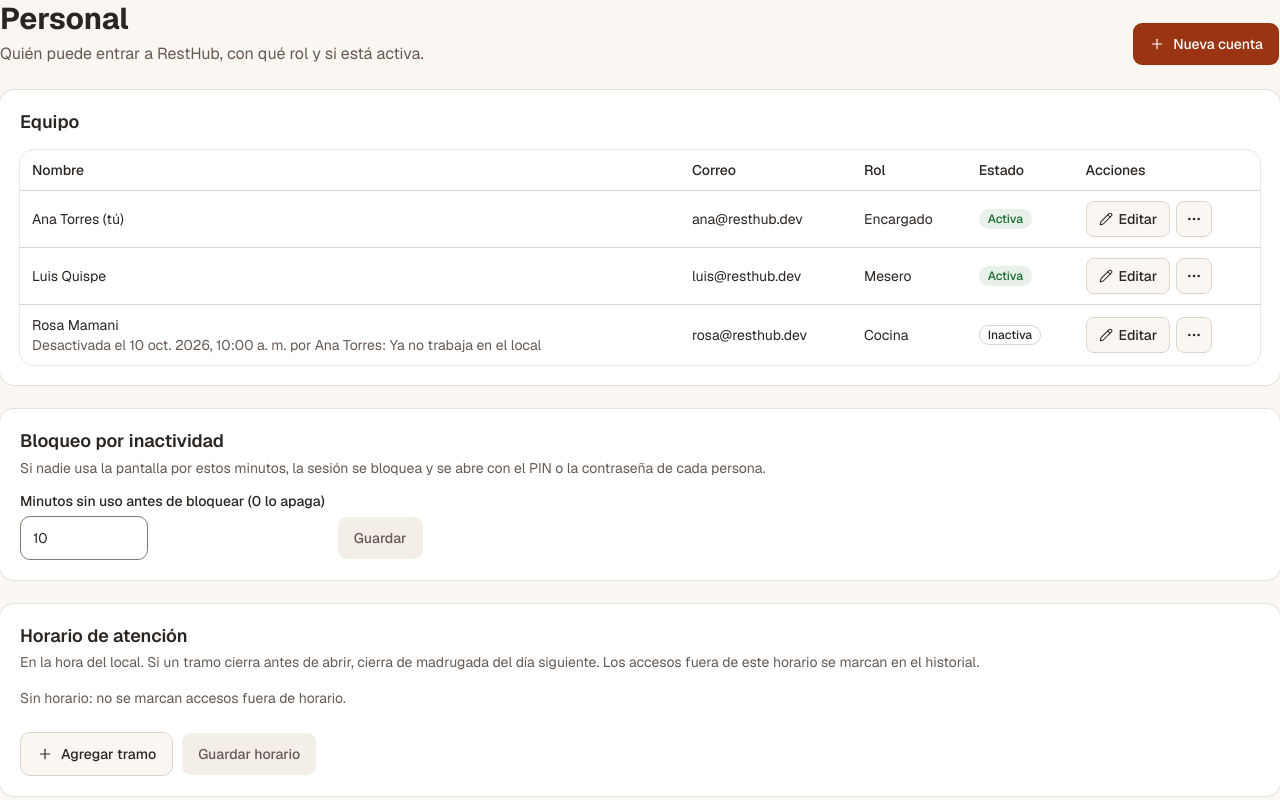
Test: Personal: bajas y accesos › muestra los accesos de una persona con sus marcas (RFS-15)
Click the button named "Más acciones de Luis Quispe": (1194, 276) [1176,258,1212,294]
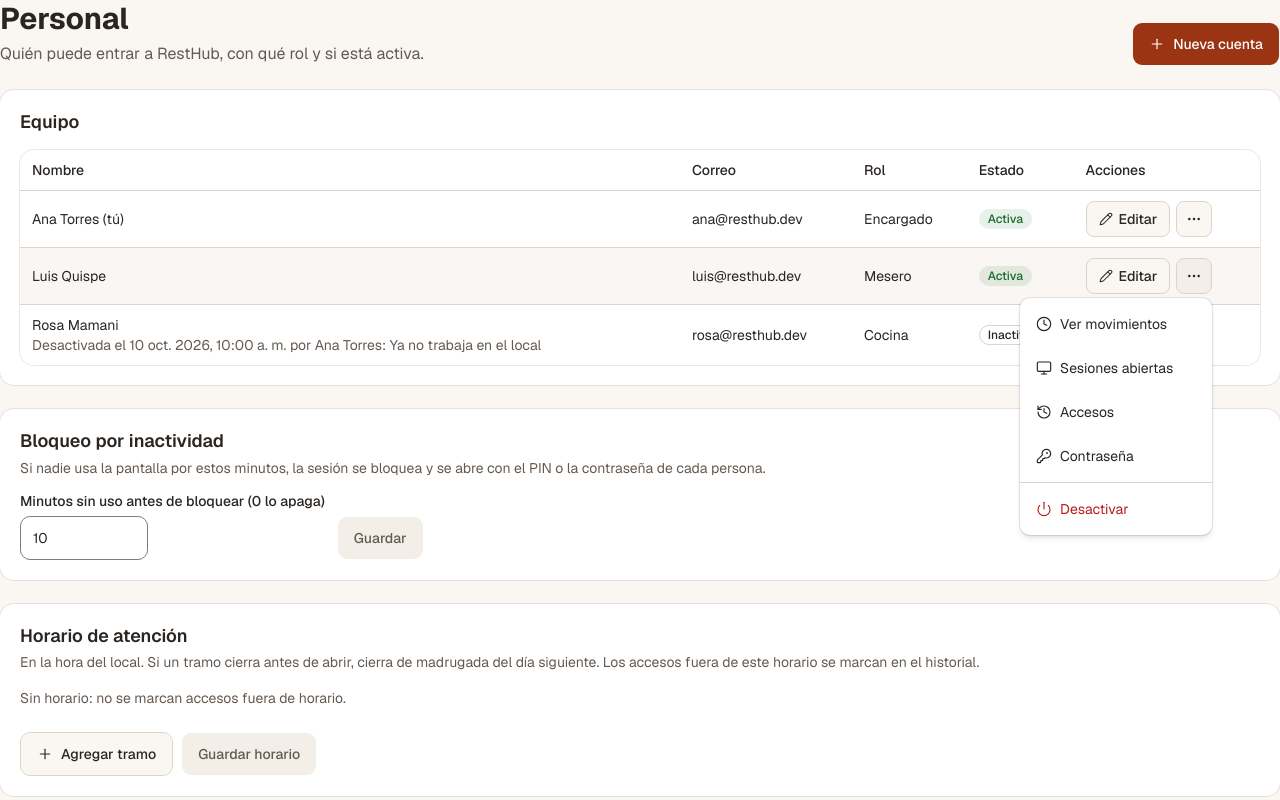
Click the menu item "Accesos": (1075, 412) [1036,403,1114,421]
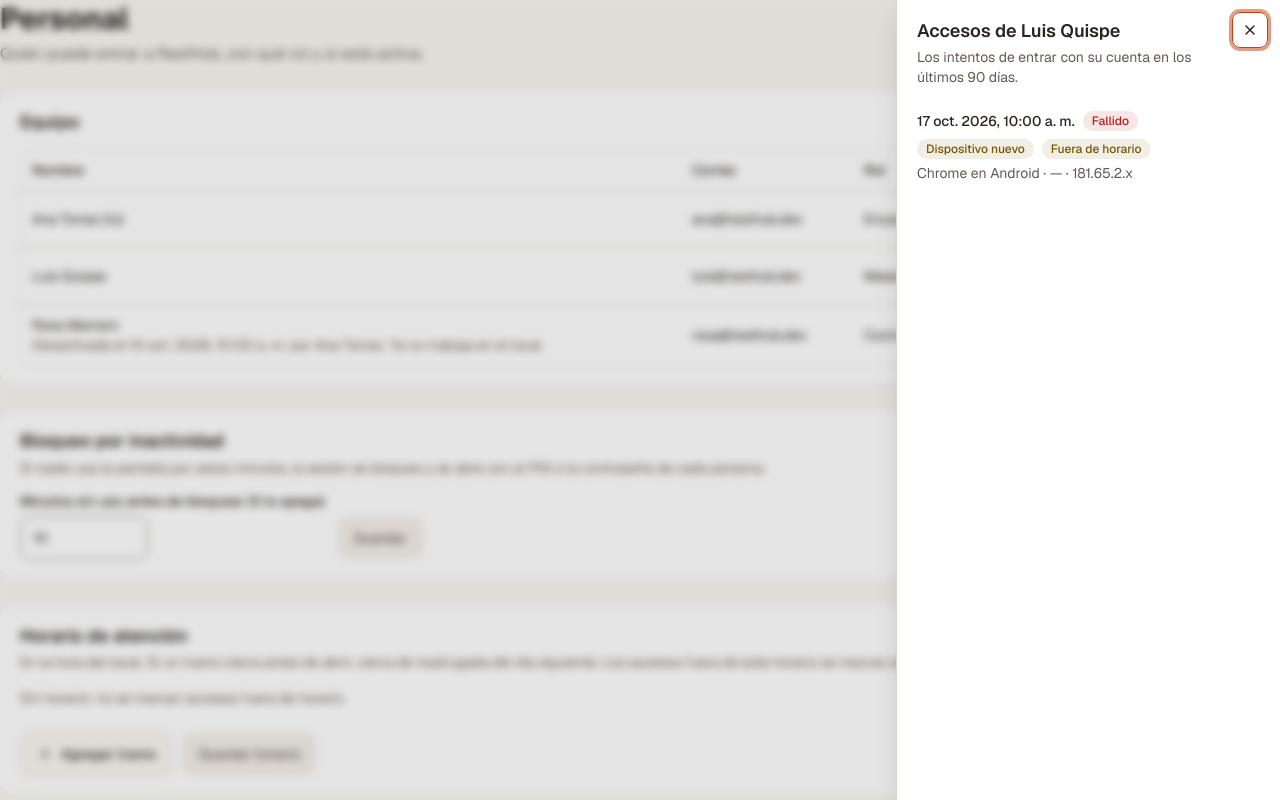
Result: the icon "Fallido" is shown at [1083,110,1138,130]
Result: the text "Dispositivo nuevo" is shown at [917,138,1034,158]
Result: the text "Fuera de horario" is shown at [1042,138,1151,158]
